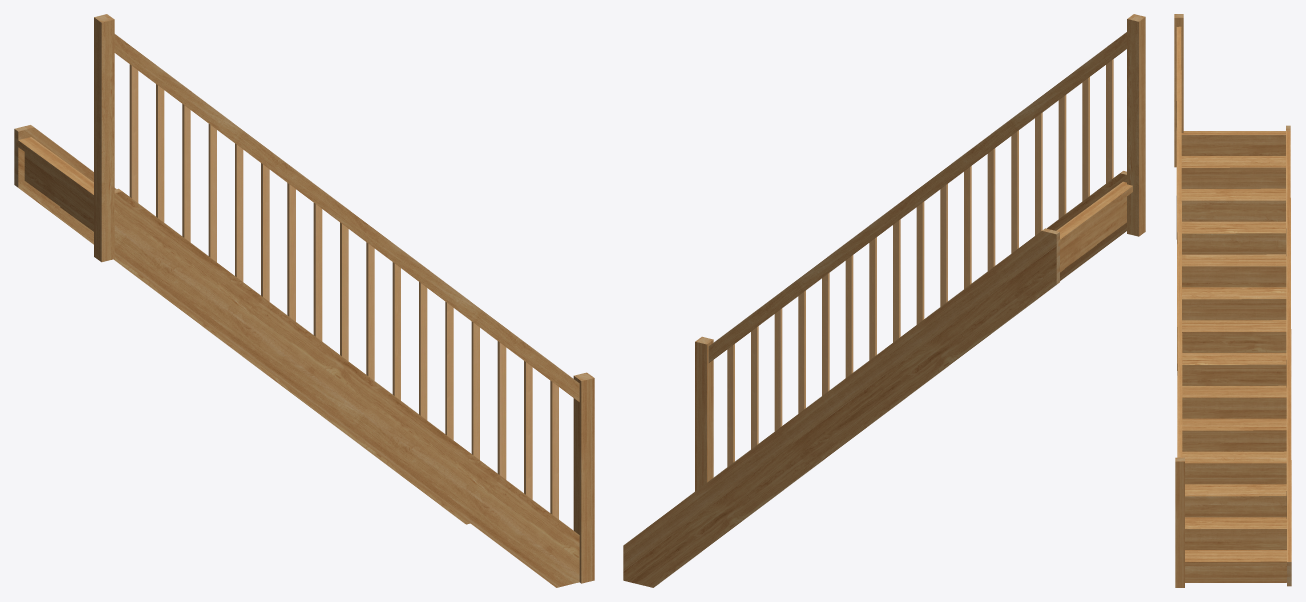
Rendered from ddd.obj.
The picture shows the model from 3 angles, left to right: view 1: azimuth 30°, elevation 25°; view 2: azimuth 150°, elevation 25°; view 3: azimuth 270°, elevation 25°; orthographic projection. The views are drawn at different scales.
Visible parts, largest first — view 1: ST Prkno, Tyčky, Sloup, HA Prkno, Podstupnice, Stupeň; view 2: ST Prkno, Tyčky, HA Prkno, Sloup, Podstupnice, Stupeň; view 3: Podstupnice, Stupeň, ST Prkno, HA Prkno, Sloup.
Part boxes in pixels (box(x1,y1,x2,y2)): ST Prkno: box(14, 125, 579, 587); Tyčky: box(129, 64, 558, 519); Sloup: box(94, 14, 594, 583); HA Prkno: box(114, 34, 579, 401); Podstupnice: box(24, 152, 93, 231); Stupeň: box(16, 137, 93, 201); ST Prkno: box(623, 171, 1126, 587); Tyčky: box(727, 59, 1113, 466); HA Prkno: box(708, 32, 1126, 362); Sloup: box(695, 14, 1145, 491); Podstupnice: box(1060, 197, 1126, 272); Stupeň: box(1056, 181, 1132, 246); Podstupnice: box(1181, 139, 1286, 582); Stupeň: box(1181, 131, 1286, 566); ST Prkno: box(1176, 125, 1291, 586); HA Prkno: box(1176, 26, 1182, 457); Sloup: box(1174, 14, 1184, 587).
Size of the model in its own units: 3 by 3.94 by 0.9907.
12 materials, 12 textured.
